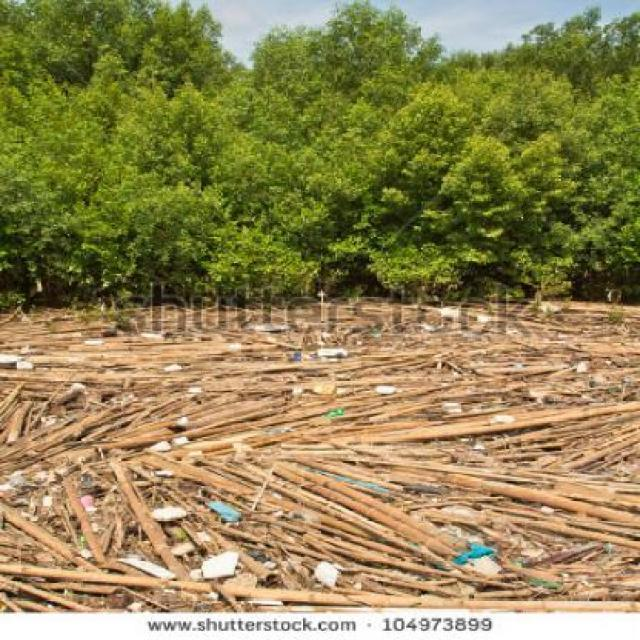garbage: (185, 491, 244, 522), (454, 542, 502, 572)
